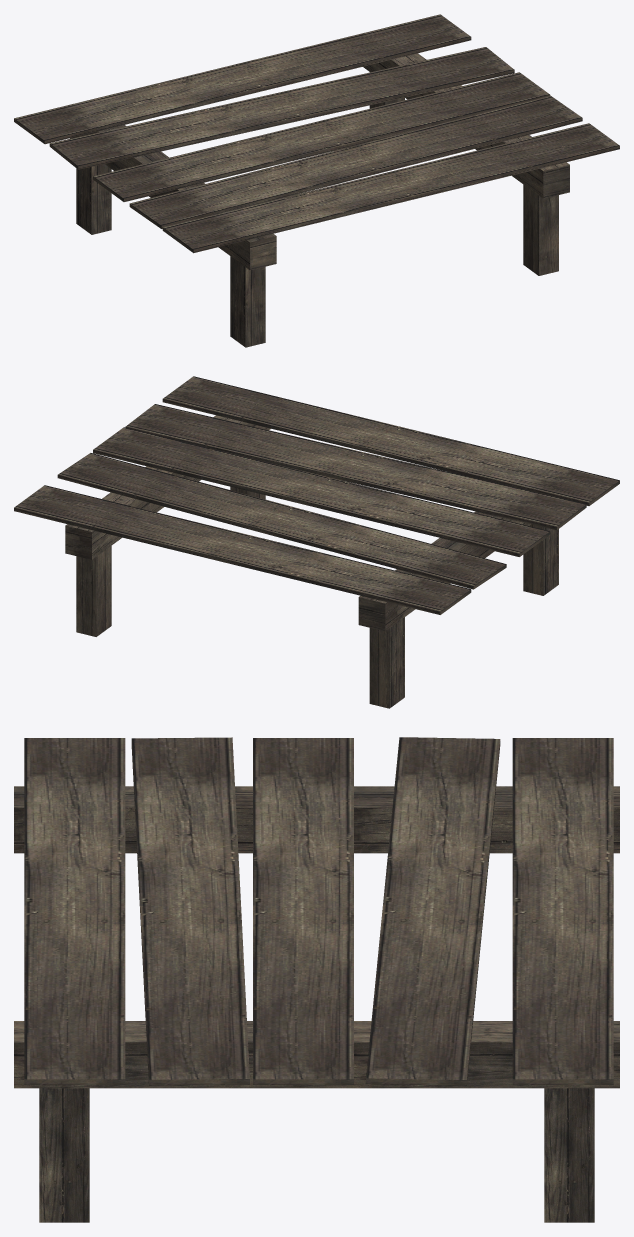
File: well_scaffold_01.FBX
3 views of the same model, one above another, from view 1: azimuth 30°, elevation 25°; view 2: azimuth 150°, elevation 25°; view 3: azimuth 270°, elevation 25° (orthographic). The views are drawn at different scales.
Parts seen in each view (by area): view 1: Box07; view 2: Box07; view 3: Box07.
Part boxes in pixels (x1,y1,x2,y2): Box07: (14, 14, 619, 347); Box07: (14, 376, 619, 708); Box07: (14, 737, 619, 1222).
Size of the model in its own units: 257 by 192 by 66.
